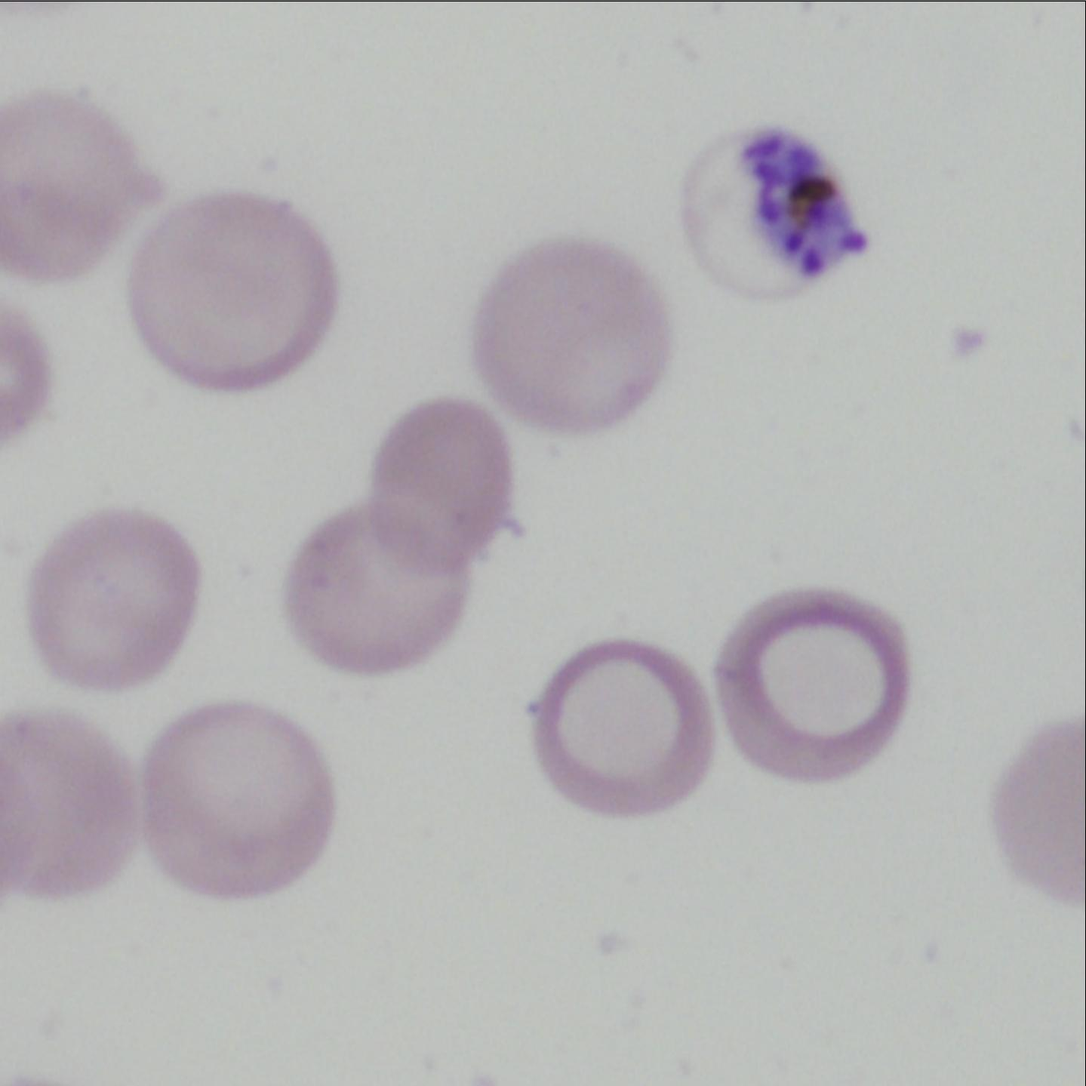Infected: (679, 124, 870, 306)
Uninfected: (131, 187, 334, 385), (475, 242, 671, 434), (146, 708, 330, 902), (722, 590, 904, 783), (0, 84, 159, 291), (533, 632, 709, 816), (284, 509, 471, 677), (25, 514, 195, 692), (0, 708, 146, 905), (372, 396, 518, 573)
